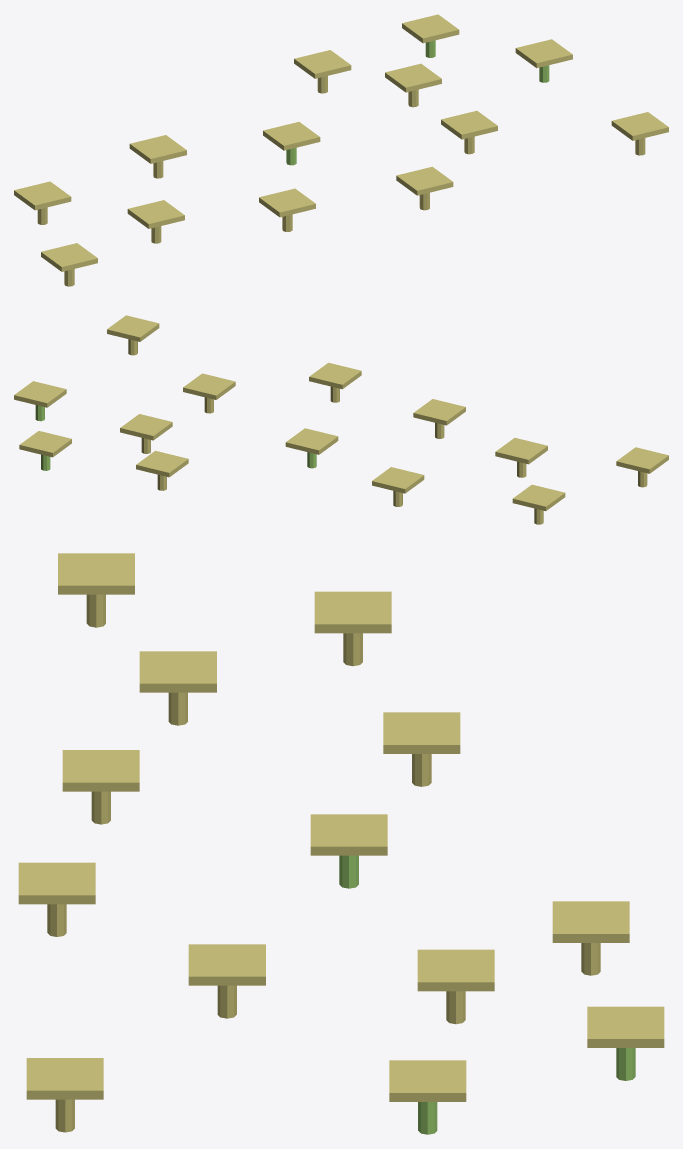
The model's file is tables.dae.
The picture shows the model from 3 angles, top to bottom: view 1: azimuth 30°, elevation 25°; view 2: azimuth 150°, elevation 25°; view 3: azimuth 270°, elevation 25°; orthographic projection. The views are drawn at different scales.
Visible parts, largest first — view 1: Cube_002, Cube_001, Cube_010, Cube_012, Cube_013, Cube_017, Cube_011, Cube_003, Cube_018, Cube_014, Cube_015, Cube_016 (+1 smaller); view 2: Cube_010, Cube_013, Cube_003, Cube_011, Cube_002, Cube_012, Cube_017, Cube_014, Cube_016, Cube_015, Cube, Cube_001 (+1 smaller); view 3: Cube_014, Cube_003, Cube_011, Cube_001, Cube_018, Cube_002, Cube_013, Cube_017, Cube_010, Cube_015, Cube, Cube_012 (+1 smaller).
Boxes of the visible parts, box(x1,y1,x2,y2) form: Cube_002: box(127, 200, 184, 243); Cube_001: box(129, 135, 186, 178); Cube_010: box(263, 122, 320, 165); Cube_012: box(611, 112, 668, 155); Cube_013: box(515, 39, 572, 82); Cube_017: box(294, 50, 351, 93); Cube_011: box(396, 166, 453, 210); Cube_003: box(14, 181, 71, 224); Cube_018: box(402, 14, 459, 57); Cube_014: box(385, 63, 441, 107); Cube_015: box(441, 110, 497, 154); Cube_016: box(41, 243, 97, 286); Cube_010: box(285, 428, 338, 468); Cube_013: box(14, 381, 66, 421); Cube_003: box(512, 484, 565, 524); Cube_011: box(309, 362, 361, 402); Cube_002: box(495, 438, 547, 477); Cube_012: box(107, 315, 159, 355); Cube_017: box(136, 450, 188, 490); Cube_014: box(120, 414, 172, 453); Cube_016: box(616, 447, 668, 487); Cube_015: box(183, 373, 235, 413); Cube: box(413, 399, 465, 438); Cube_001: box(372, 467, 424, 506); Cube_014: box(417, 949, 494, 1024); Cube_003: box(314, 591, 391, 666); Cube_011: box(18, 862, 95, 936); Cube_001: box(383, 712, 460, 786); Cube_018: box(587, 1006, 664, 1080); Cube_002: box(139, 651, 216, 725); Cube_013: box(389, 1060, 466, 1134); Cube_017: box(552, 901, 629, 975); Cube_010: box(310, 814, 387, 888); Cube_015: box(188, 944, 265, 1018); Cube: box(62, 750, 139, 824); Cube_012: box(26, 1058, 103, 1132).
Bounding box in the file's own units: 33.14 × 16.76 × 1.55.
